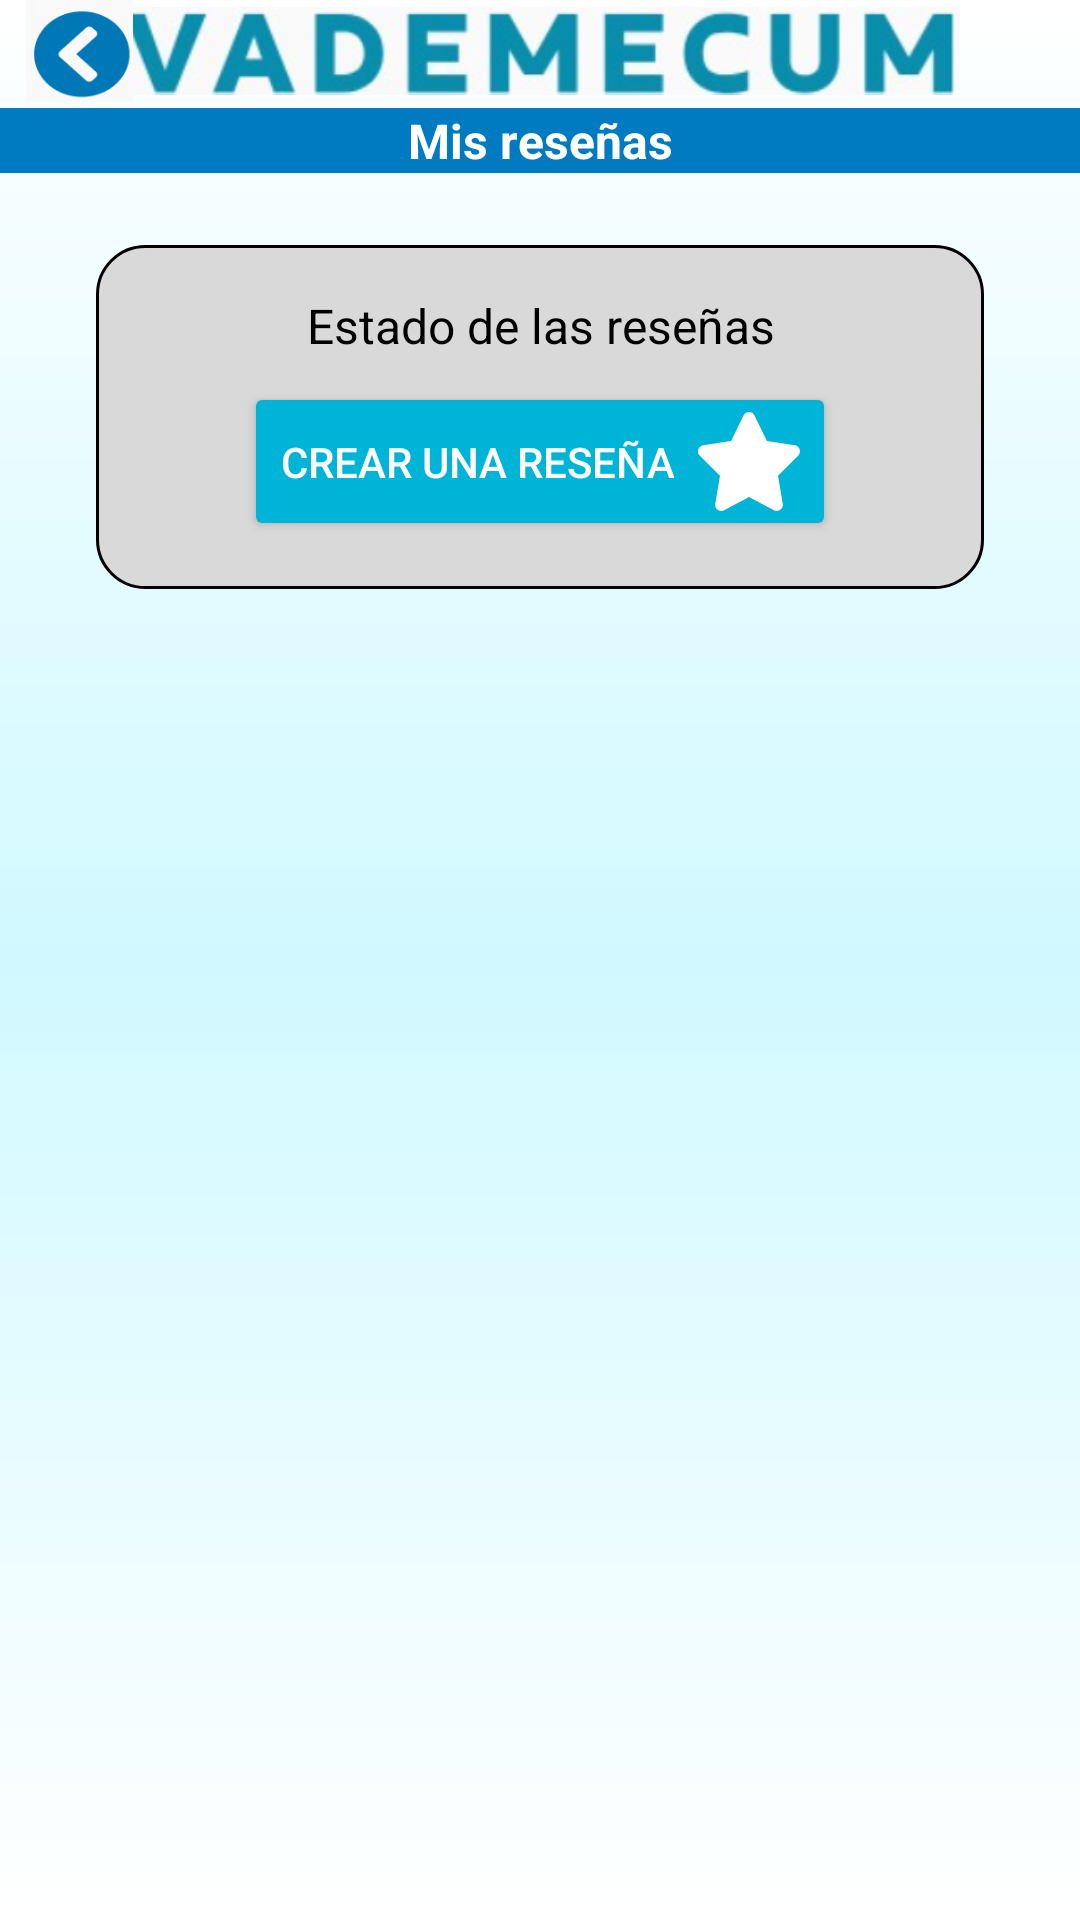

Point at icon controls on the screen. Image size 1080w x 1920h, points as point (x, y).
imgatras: point (82, 54)
